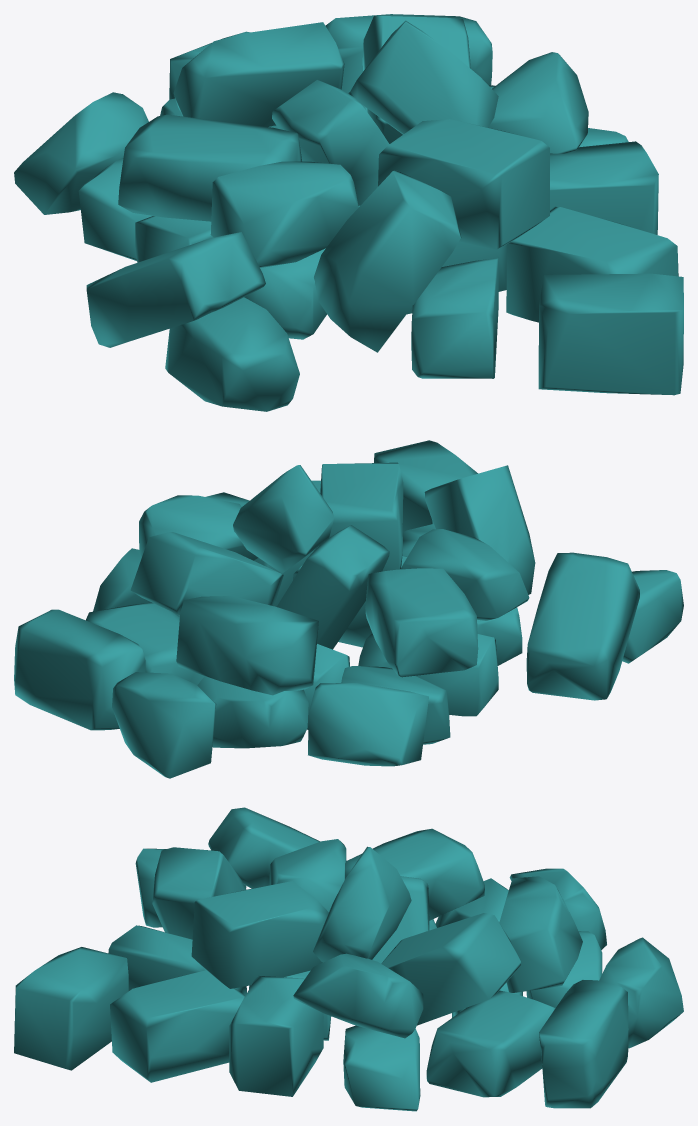
Rendered from SM_Construction_Kit_brick.fbx.
3 renders of one model, top to bottom at view 1: azimuth 30°, elevation 25°; view 2: azimuth 150°, elevation 25°; view 3: azimuth 270°, elevation 25°, orthographic. The views are drawn at different scales.
Parts seen in each view (by area): view 1: Construction_Kit_brick; view 2: Construction_Kit_brick; view 3: Construction_Kit_brick.
Boxes of the visible parts, box(x1,y1,x2,y2) form: Construction_Kit_brick: box(14, 14, 683, 411); Construction_Kit_brick: box(14, 440, 683, 778); Construction_Kit_brick: box(14, 807, 683, 1111).
Size of the model in its own units: 180 by 71.1 by 229.
